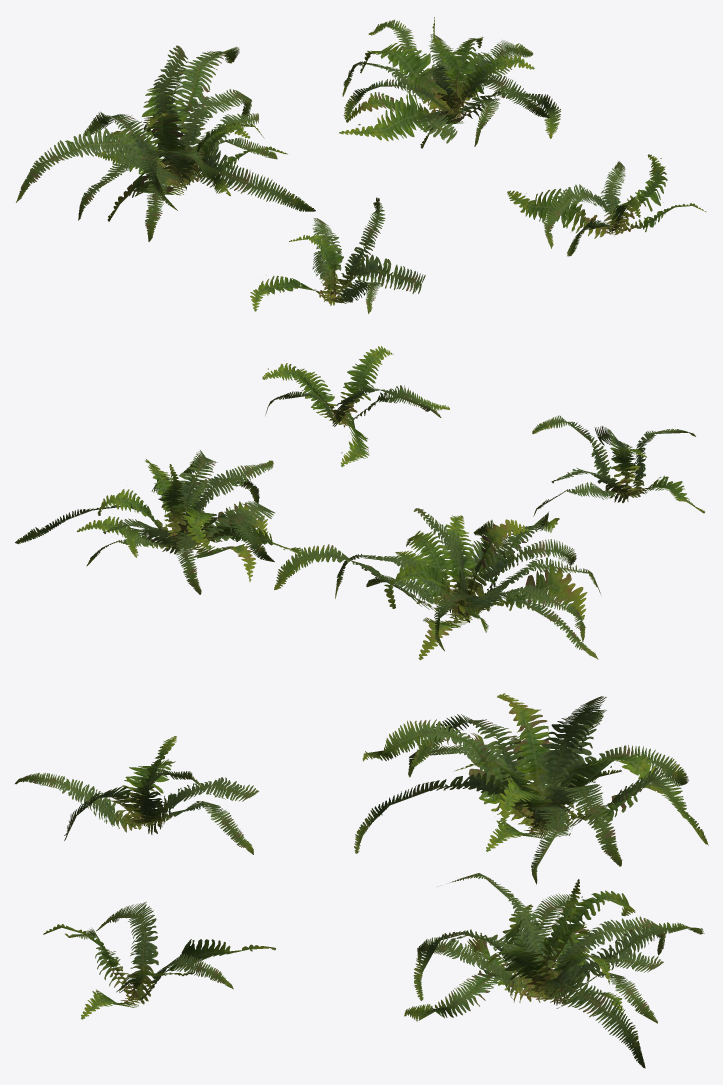
3 views of the same model, one above another, from view 1: azimuth 30°, elevation 25°; view 2: azimuth 150°, elevation 25°; view 3: azimuth 270°, elevation 25° (orthographic). The views are drawn at different scales.
Parts seen in each view (by area): view 1: fern_02_b, fern_02_c, fern_02_a, fern_02_d; view 2: fern_02_b, fern_02_c, fern_02_d, fern_02_a; view 3: fern_02_b, fern_02_c, fern_02_a, fern_02_d.
Boxes of the visible parts, box(x1,y1,x2,y2) form: fern_02_b: box(16, 45, 315, 241); fern_02_c: box(339, 17, 560, 148); fern_02_a: box(250, 197, 425, 313); fern_02_d: box(507, 154, 706, 256); fern_02_b: box(274, 508, 600, 660); fern_02_c: box(15, 450, 301, 594); fern_02_d: box(262, 346, 449, 467); fern_02_a: box(532, 415, 704, 516); fern_02_b: box(354, 693, 708, 884); fern_02_c: box(404, 873, 704, 1068); fern_02_a: box(15, 736, 258, 854); fern_02_d: box(43, 901, 275, 1019).
Bounding box in the file's own units: 1.97 × 0.4277 × 1.72.
Materials: 1 (1 with a texture image).
